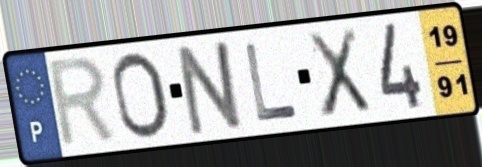4: (377, 20, 426, 113)
L: (242, 40, 301, 124)
N: (174, 36, 248, 138)
O: (109, 49, 174, 143)
R: (45, 52, 122, 153)
X: (303, 25, 374, 122)
